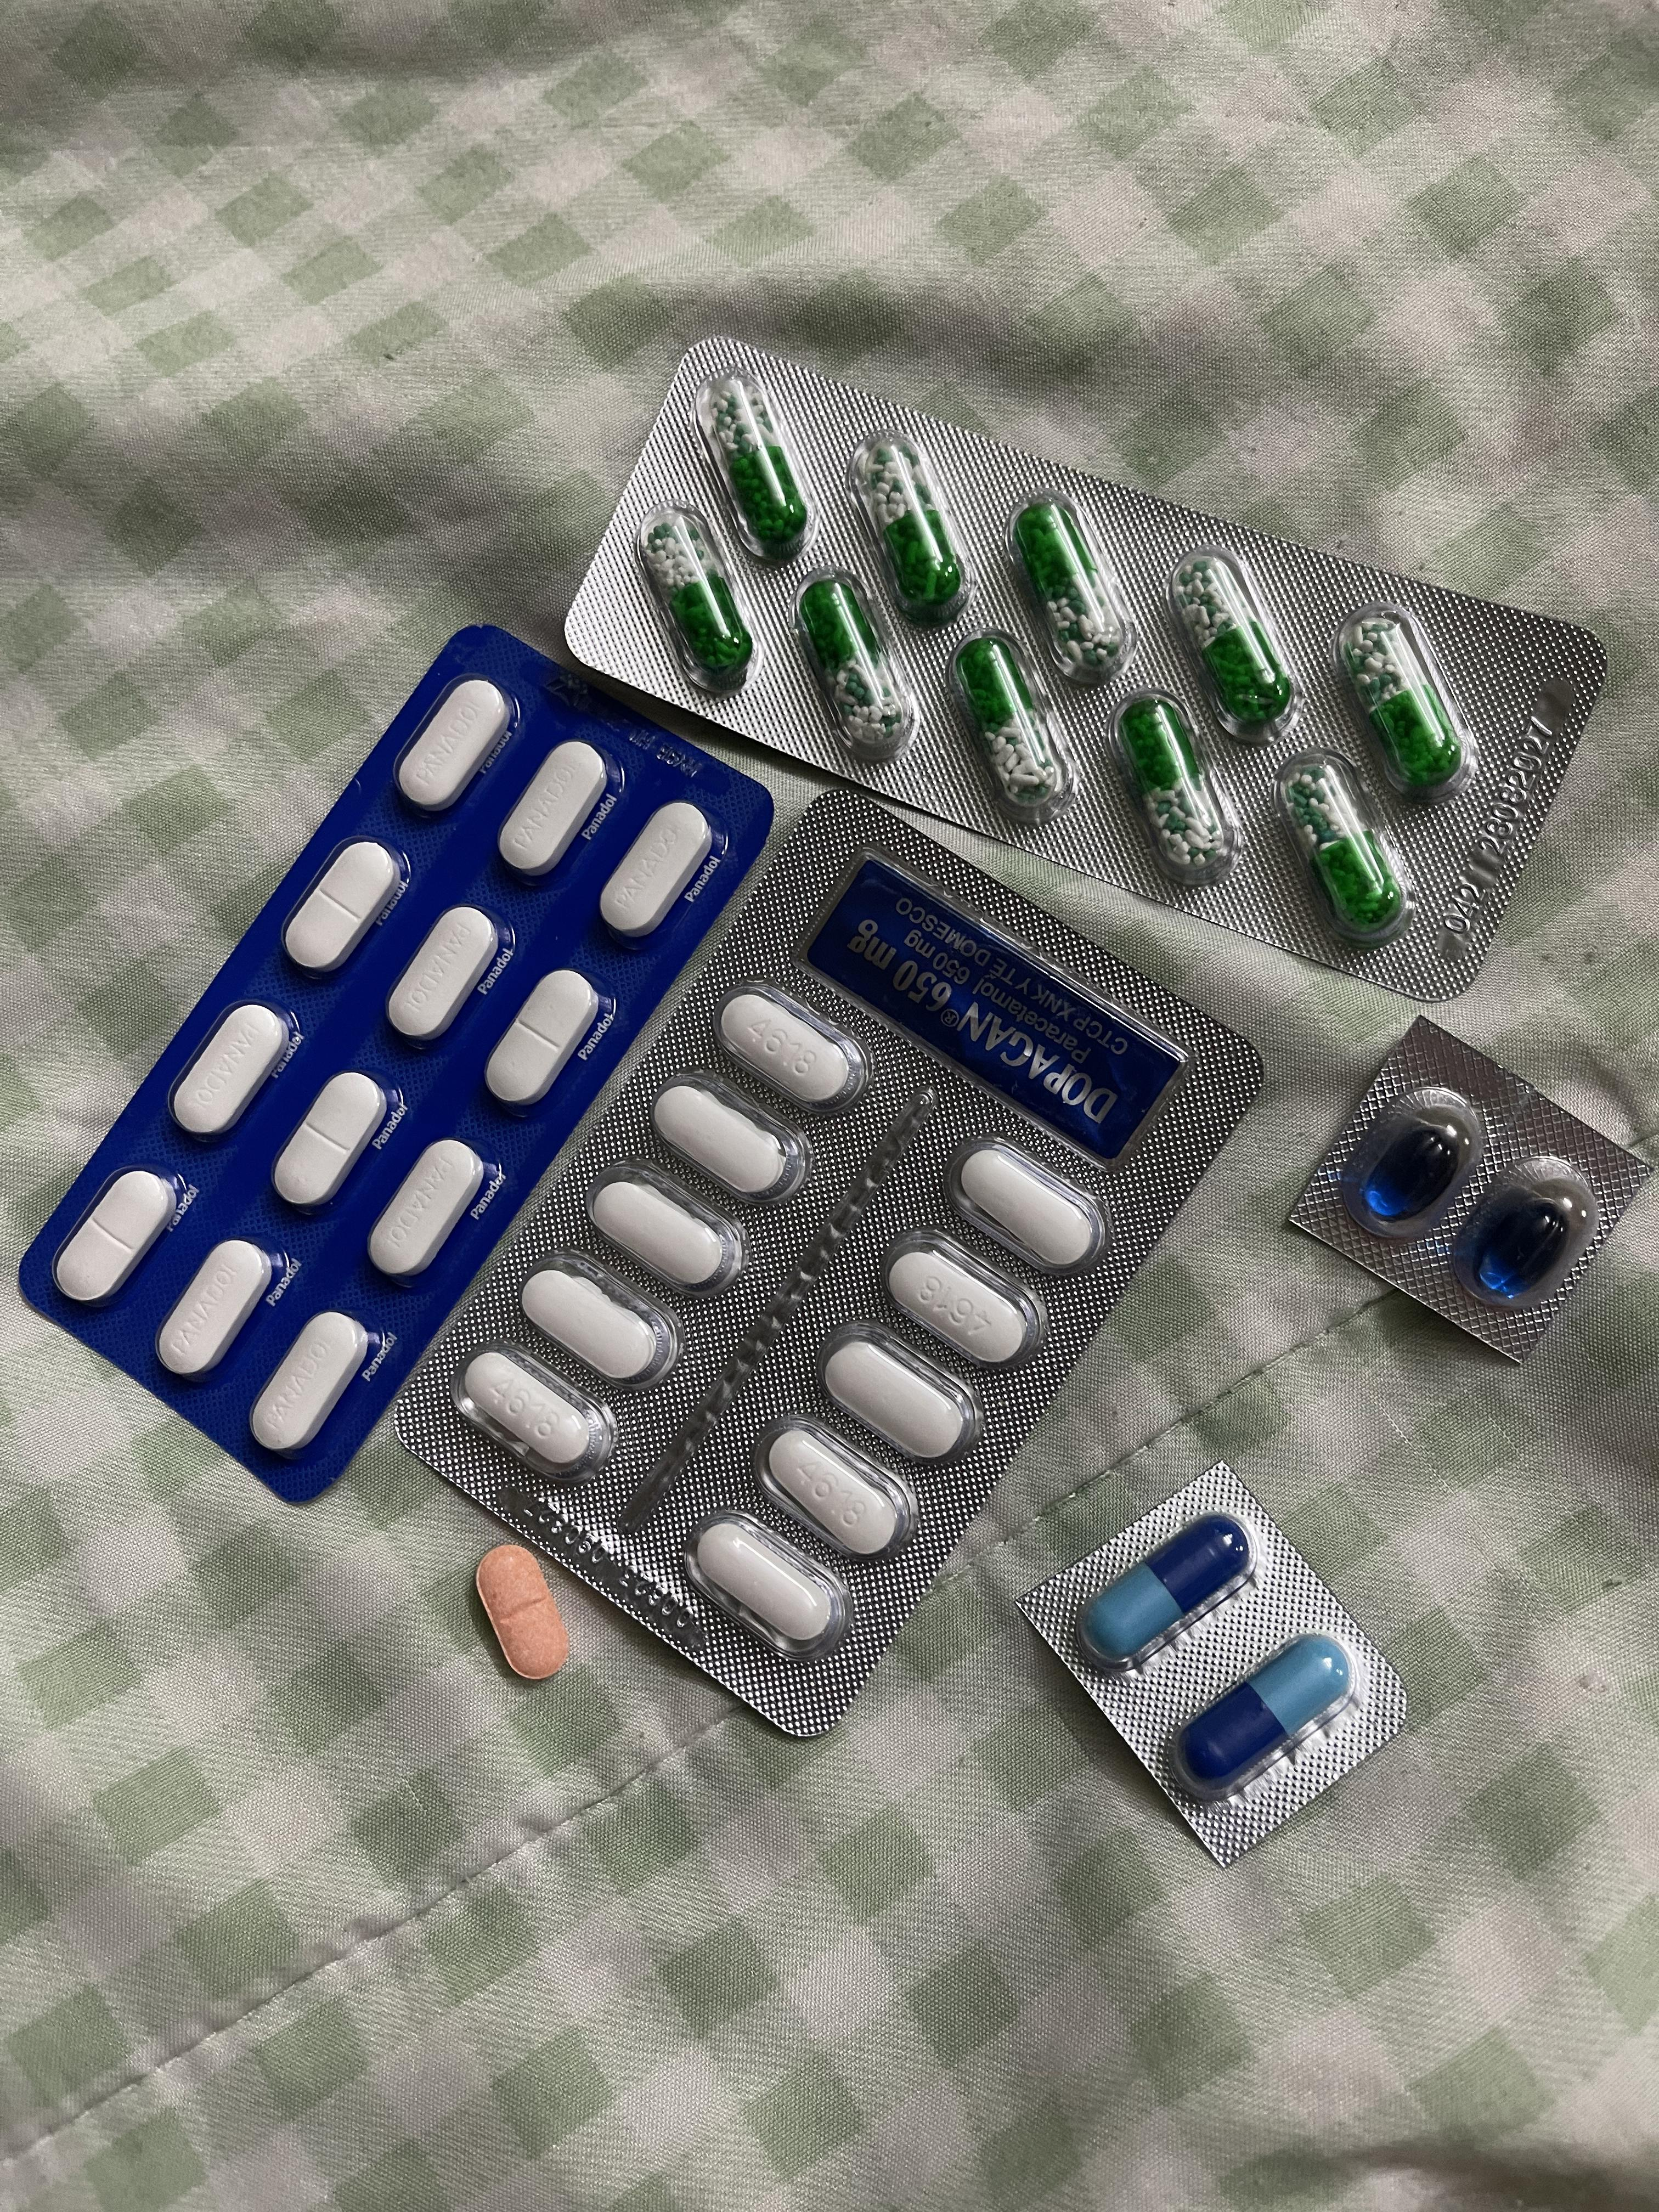Lincomyxin_500mg: (1469, 1193, 1571, 1295), (1364, 1120, 1464, 1221)
Loratadine_10mg: (477, 1545, 573, 1678)
Paracetamol_350mg: (484, 966, 612, 1115), (370, 1138, 495, 1288), (53, 1166, 183, 1309), (157, 1235, 281, 1383), (252, 1312, 376, 1458), (170, 1001, 295, 1143), (275, 1068, 396, 1213), (390, 904, 507, 1045), (281, 837, 402, 975), (598, 801, 712, 943), (396, 681, 512, 813), (499, 743, 612, 878)
Paracetamol_500mg: (875, 1229, 1040, 1376), (464, 1355, 622, 1481), (651, 1080, 795, 1205), (518, 1265, 664, 1386), (956, 1143, 1099, 1266), (768, 1425, 905, 1546), (693, 1519, 833, 1637), (828, 1342, 967, 1461), (723, 993, 854, 1107), (594, 1178, 724, 1285)
Paracetamol_650mg: (848, 432, 974, 633), (943, 626, 1069, 821), (791, 565, 912, 765), (1006, 493, 1126, 685), (1280, 766, 1397, 932), (1345, 615, 1457, 784), (1175, 556, 1285, 721), (1124, 699, 1224, 873), (648, 517, 749, 670), (714, 382, 805, 547)
pill: (1162, 1626, 1359, 1808), (1076, 1511, 1250, 1671)
